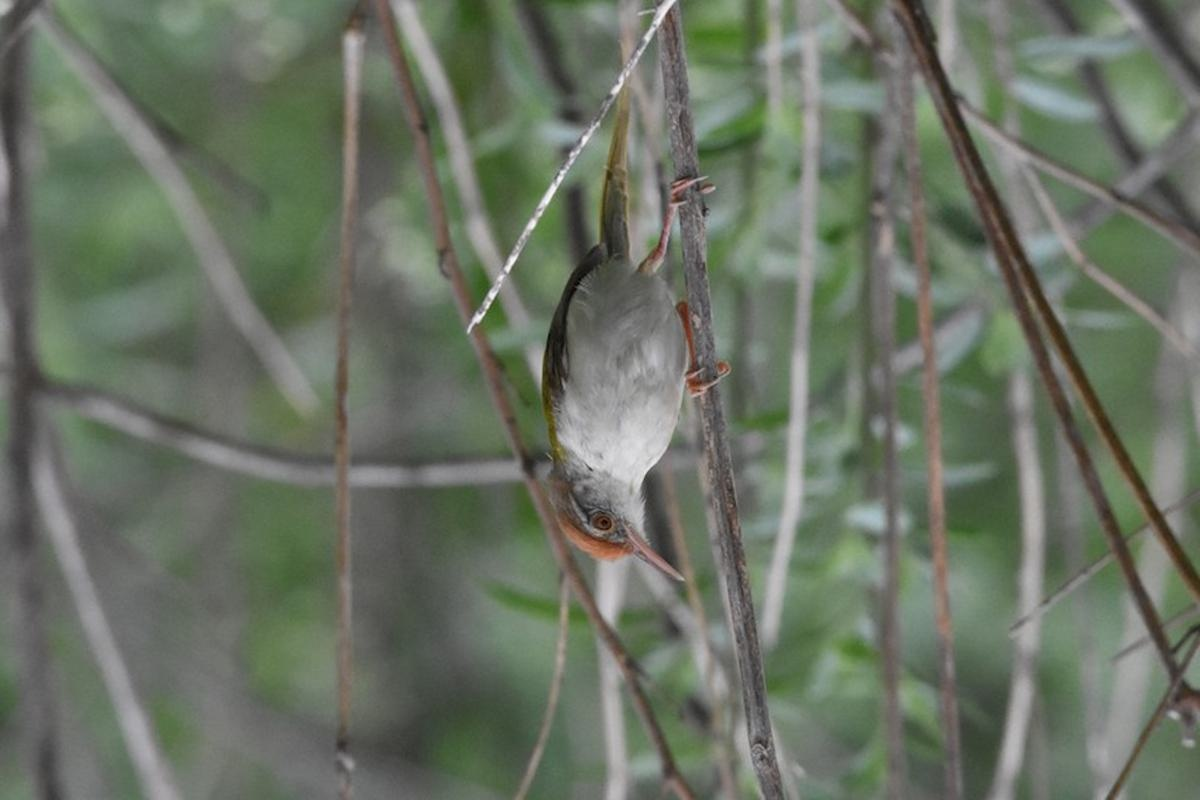tailorbird: (528, 106, 704, 594)
